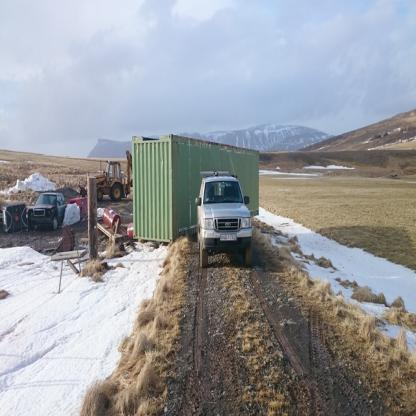Car: (195, 157, 252, 267), (27, 192, 66, 231)
Truck: (192, 172, 252, 262)
